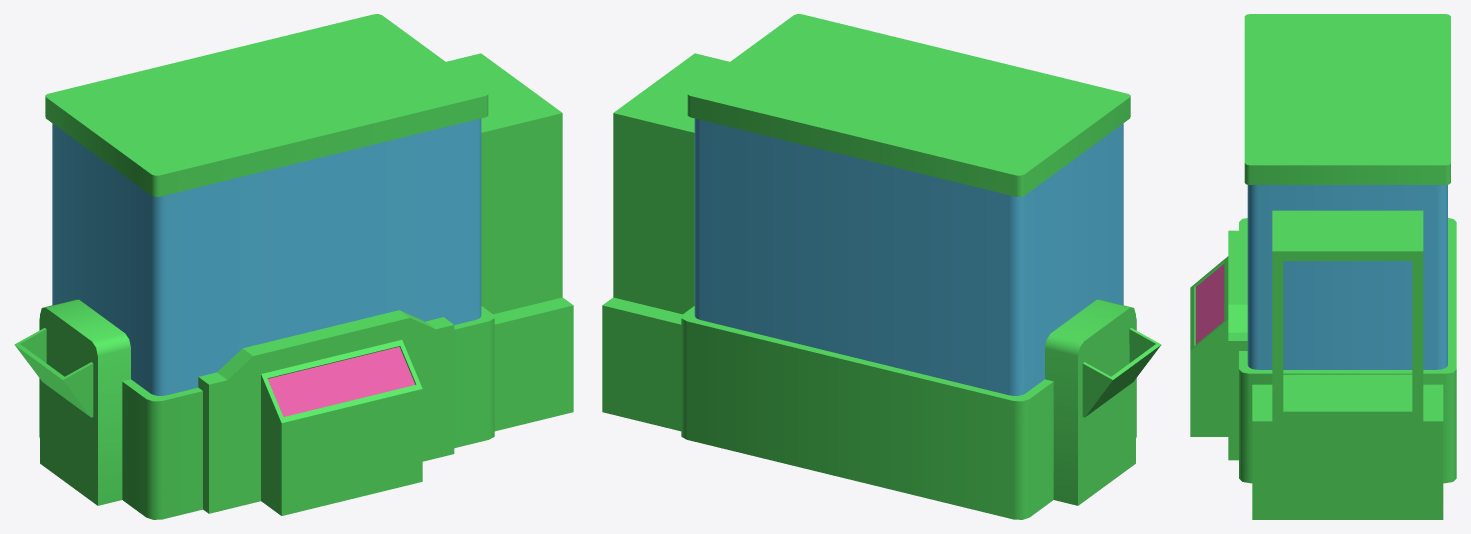
The model's file is Fabricator.fbx.
3 views of the same model, side by side, from view 1: azimuth 30°, elevation 25°; view 2: azimuth 150°, elevation 25°; view 3: azimuth 270°, elevation 25° (orthographic). The views are drawn at different scales.
Visible parts, largest first — view 1: Cube.004, Cube.005, Cube.007, Cube.010, Cube.014, Cube.003, Cube.006, Cube.012, Cube.011; view 2: Cube.004, Cube.003, Cube.005, Cube.010, Cube.006, Cube.012, Cube.011; view 3: Cube.005, Cube.004, Cube.012, Cube.010, Cube.007, Cube.003, Cube.014.
Boxes of the visible parts, x1=… form: Cube.004: x1=52, y1=118, x2=481, y2=395; Cube.005: x1=45, y1=14, x2=488, y2=196; Cube.007: x1=261, y1=340, x2=422, y2=515; Cube.010: x1=446, y1=53, x2=562, y2=314; Cube.014: x1=198, y1=310, x2=454, y2=513; Cube.003: x1=39, y1=306, x2=494, y2=519; Cube.006: x1=40, y1=299, x2=130, y2=505; Cube.012: x1=493, y1=297, x2=573, y2=431; Cube.011: x1=14, y1=328, x2=93, y2=417; Cube.004: x1=694, y1=118, x2=1123, y2=395; Cube.003: x1=681, y1=306, x2=1136, y2=519; Cube.005: x1=687, y1=14, x2=1130, y2=196; Cube.010: x1=613, y1=53, x2=729, y2=314; Cube.006: x1=1045, y1=299, x2=1135, y2=505; Cube.012: x1=602, y1=297, x2=682, y2=431; Cube.011: x1=1082, y1=328, x2=1161, y2=417; Cube.005: x1=1244, y1=14, x2=1450, y2=184; Cube.004: x1=1247, y1=184, x2=1447, y2=369; Cube.012: x1=1252, y1=384, x2=1443, y2=519; Cube.010: x1=1272, y1=210, x2=1423, y2=421; Cube.007: x1=1190, y1=256, x2=1228, y2=436; Cube.003: x1=1239, y1=218, x2=1456, y2=483; Cube.014: x1=1228, y1=230, x2=1247, y2=460.
Size of the model in its own units: 4.74 by 3.2 by 2.45.
